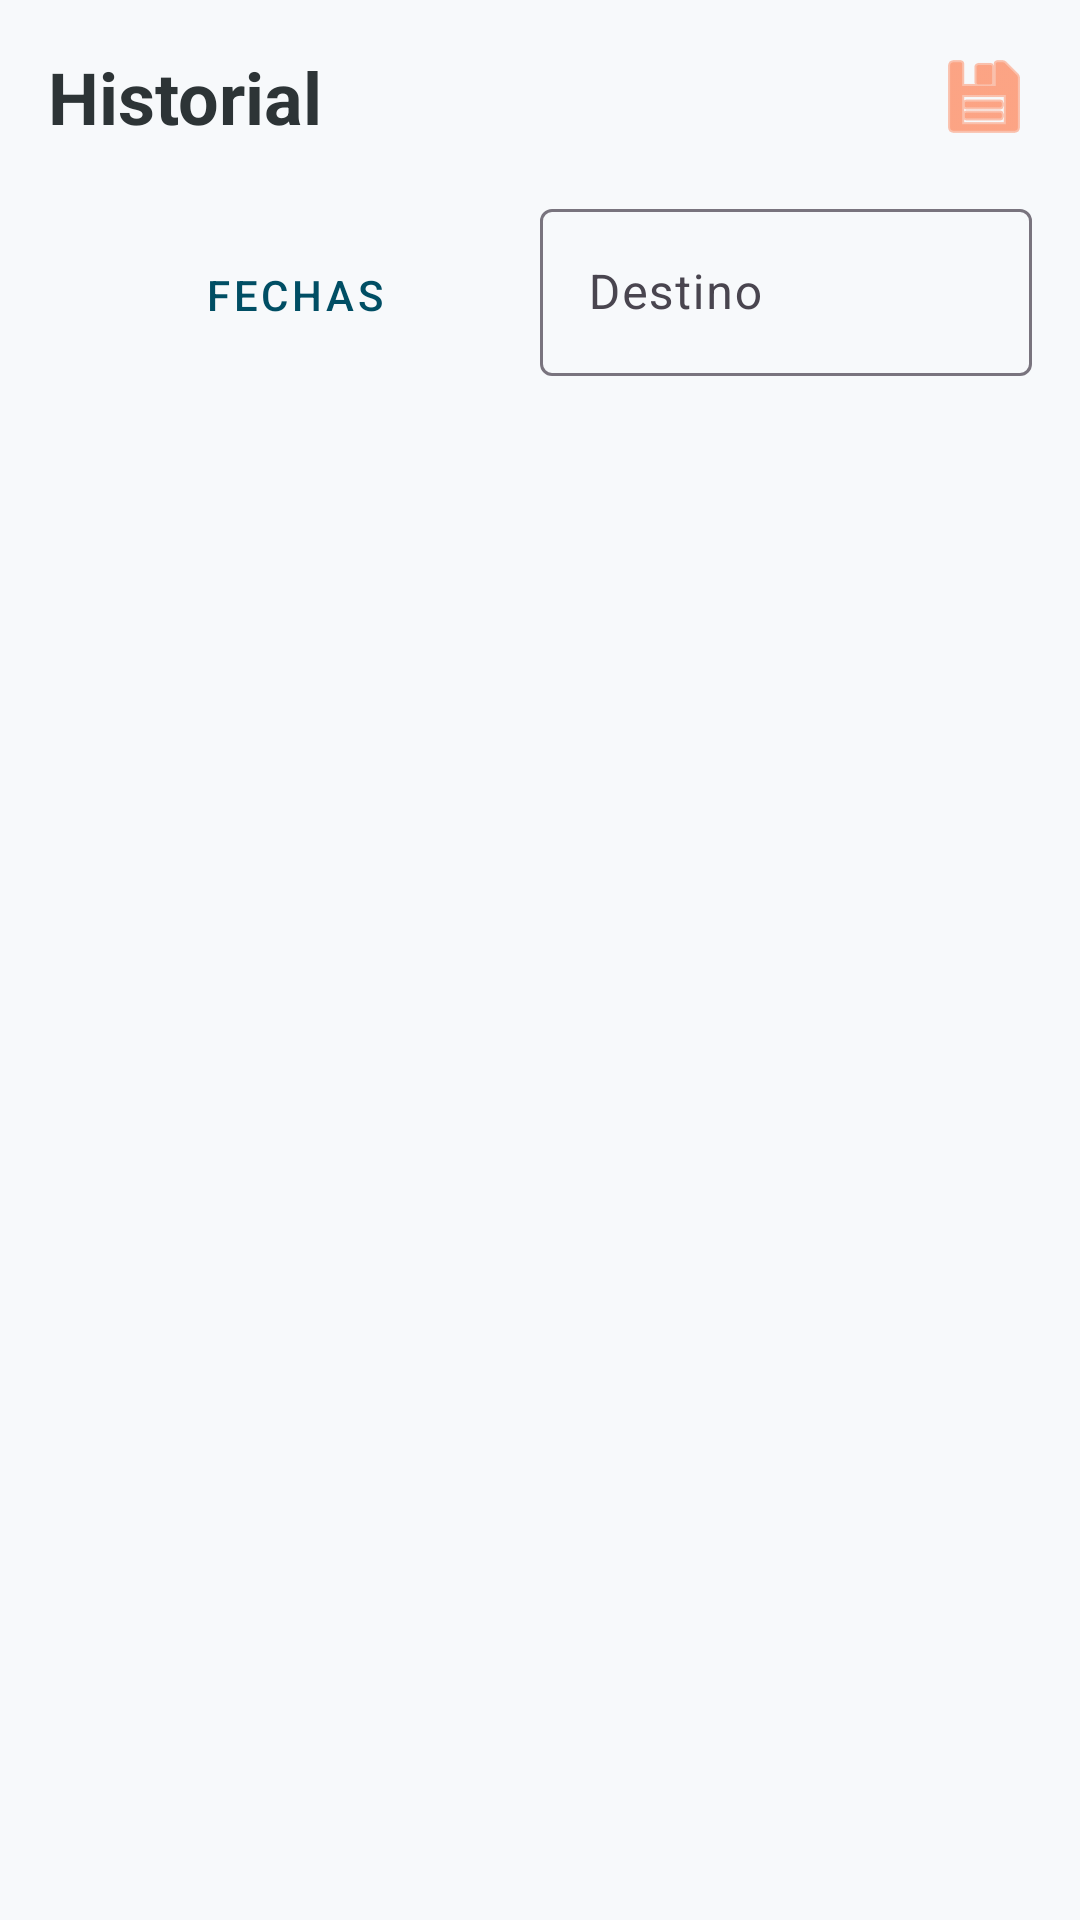

Icons on this 1080px x 1920px Android screen, each with its box as (left=x1, top=y1, right=x2, bottom=y2):
save: (left=948, top=60, right=1020, bottom=133)
